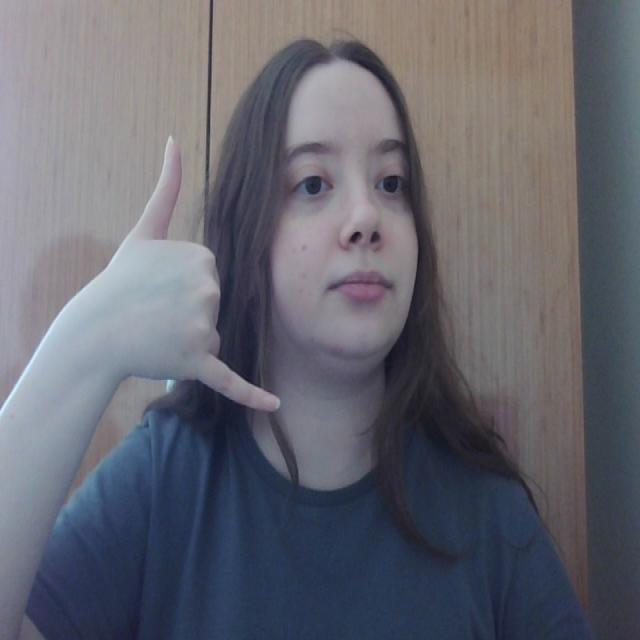Telefon: (139, 128, 281, 418)
